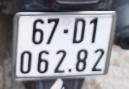0: (19, 50, 32, 75)
1: (89, 16, 100, 44)
2: (91, 47, 103, 73), (54, 49, 66, 74)
6: (30, 17, 44, 46), (37, 49, 50, 76)
7: (45, 14, 63, 46)
8: (74, 46, 89, 73)
D: (72, 15, 86, 45)
